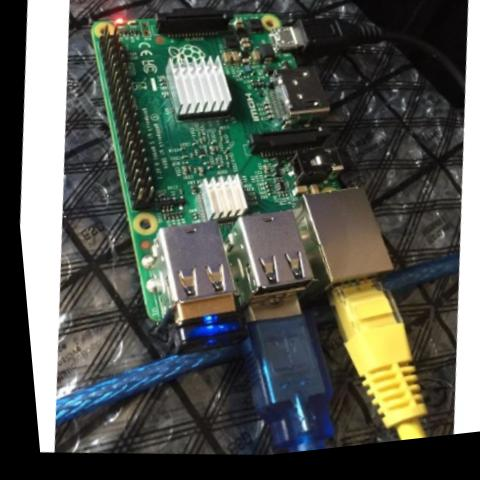Raspberry-Pi-2-Model-B: (39, 0, 447, 402)
